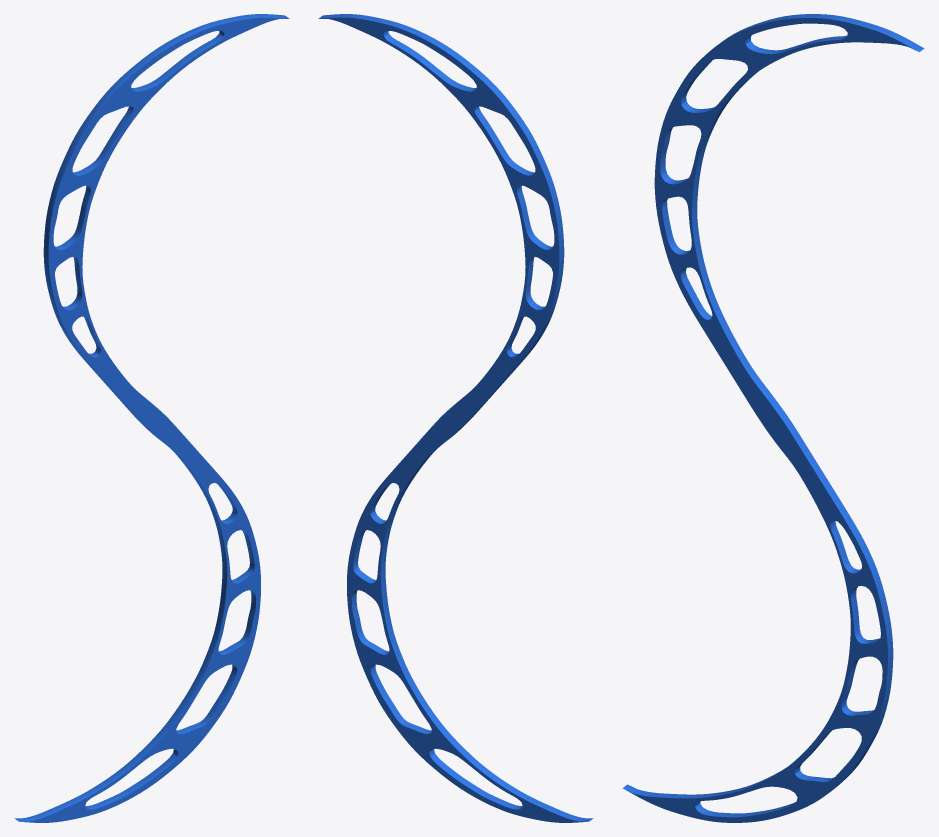
File: buugeng.glb
3 renders of one model, left to right at view 1: azimuth 30°, elevation 25°; view 2: azimuth 150°, elevation 25°; view 3: azimuth 330°, elevation 25°, orthographic. The views are drawn at different scales.
Parts seen in each view (by area): view 1: TKA_Buugeng_PerforatedBody_Recolor; view 2: TKA_Buugeng_PerforatedBody_Recolor; view 3: TKA_Buugeng_PerforatedBody_Recolor.
Boxes of the visible parts, box(x1,y1,x2,y2) form: TKA_Buugeng_PerforatedBody_Recolor: box(14, 14, 289, 822); TKA_Buugeng_PerforatedBody_Recolor: box(318, 14, 593, 822); TKA_Buugeng_PerforatedBody_Recolor: box(622, 14, 924, 822).
Bounding box in the file's own units: 0.3098 × 0.83 × 0.0095.
